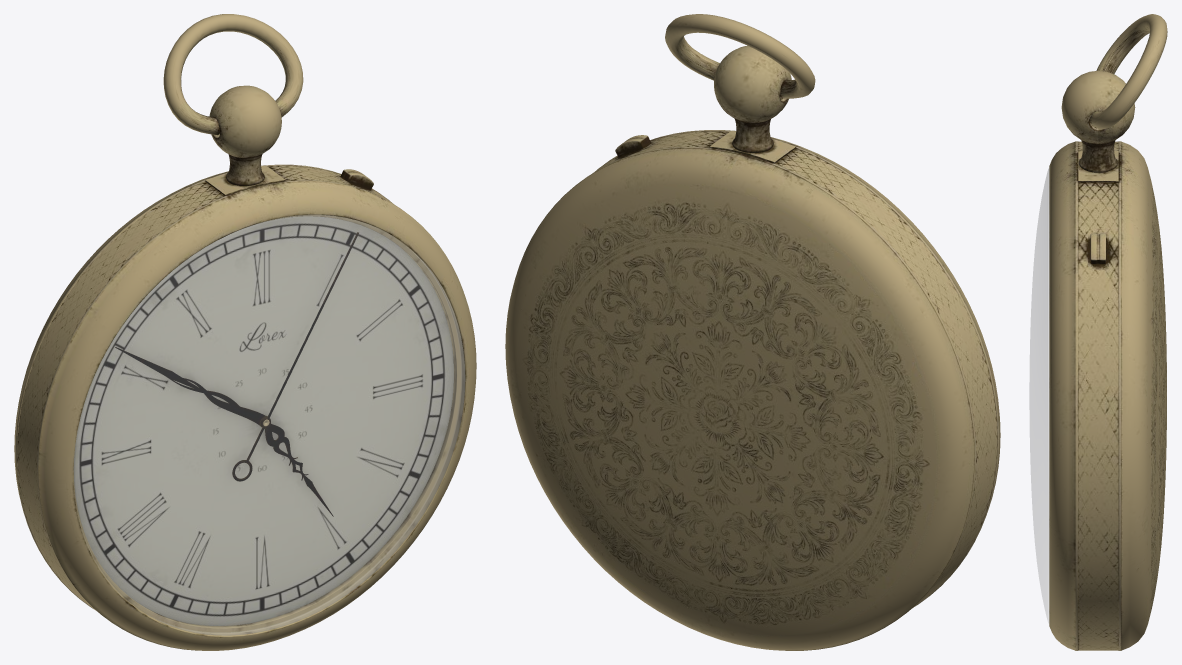
File: item_pocket_watch.glb
3 renders of one model, left to right at view 1: azimuth 30°, elevation 25°; view 2: azimuth 150°, elevation 25°; view 3: azimuth 270°, elevation 25°, orthographic. The views are drawn at different scales.
Parts seen in each view (by area): view 1: pocket_watch_frame, pocket_watch_ring, pocket_watch_hand_minutes, pocket_watch_hand_secondes, pocket_watch_hand_hours; view 2: pocket_watch_frame, pocket_watch_ring; view 3: pocket_watch_frame, pocket_watch_ring, pocket_watch_button.
Boxes of the visible parts, x1=… form: pocket_watch_frame: x1=14, y1=85, x2=476, y2=650; pocket_watch_ring: x1=163, y1=14, x2=303, y2=135; pocket_watch_hand_minutes: x1=115, y1=347, x2=267, y2=426; pocket_watch_hand_secondes: x1=232, y1=232, x2=358, y2=481; pocket_watch_hand_hours: x1=261, y1=416, x2=333, y2=516; pocket_watch_frame: x1=505, y1=45, x2=1000, y2=650; pocket_watch_ring: x1=665, y1=14, x2=815, y2=98; pocket_watch_frame: x1=1029, y1=70, x2=1166, y2=650; pocket_watch_ring: x1=1089, y1=14, x2=1167, y2=129; pocket_watch_button: x1=1088, y1=232, x2=1108, y2=269.
Size of the model in its own units: 0.0577 by 0.0756 by 0.0156.
Materials: 2 (1 with a texture image).
